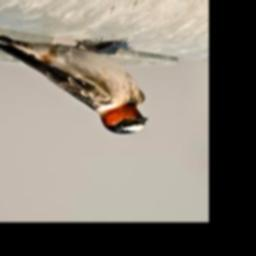Swallow: (0, 35, 150, 137)
